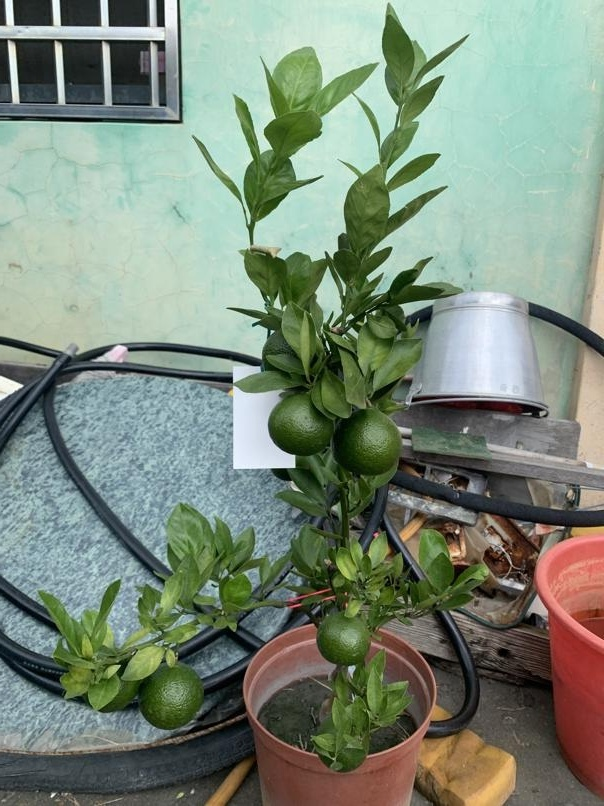Tangerine: (331, 405, 404, 477), (136, 660, 206, 729), (267, 388, 334, 456), (314, 609, 372, 666)
